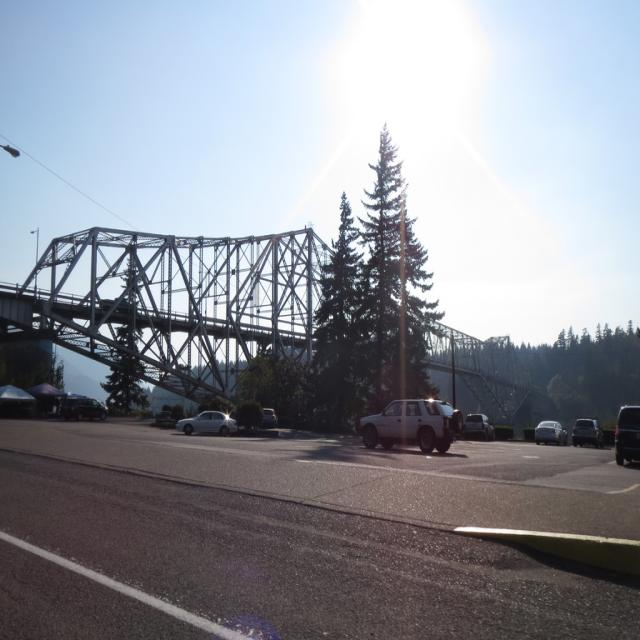car: (356, 396, 463, 453), (174, 409, 237, 436), (58, 394, 108, 419), (570, 416, 602, 447), (533, 418, 567, 446), (260, 406, 277, 426)
